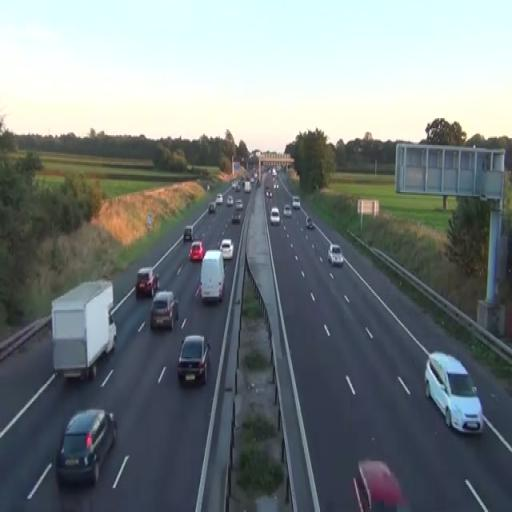Car: (424, 350, 484, 436), (56, 408, 118, 487), (357, 460, 405, 511), (177, 334, 211, 386), (150, 290, 179, 332), (136, 268, 160, 298), (327, 244, 344, 268), (219, 238, 234, 261), (190, 240, 204, 262), (270, 207, 280, 227)
Truck: (50, 278, 118, 382), (200, 250, 225, 304)
